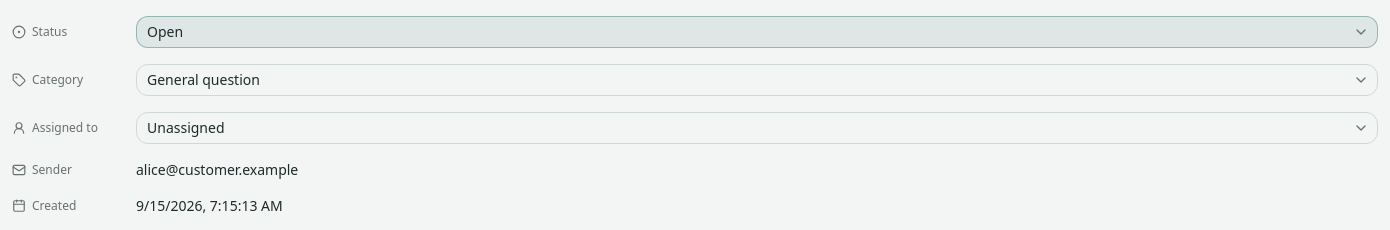
Test case: UpdateTicket — category › lists all three categories as options
This screenshot has width=1390, height=230.
Click the dropdown named "Category" at (203, 80), box 136,64 -> 1378,96
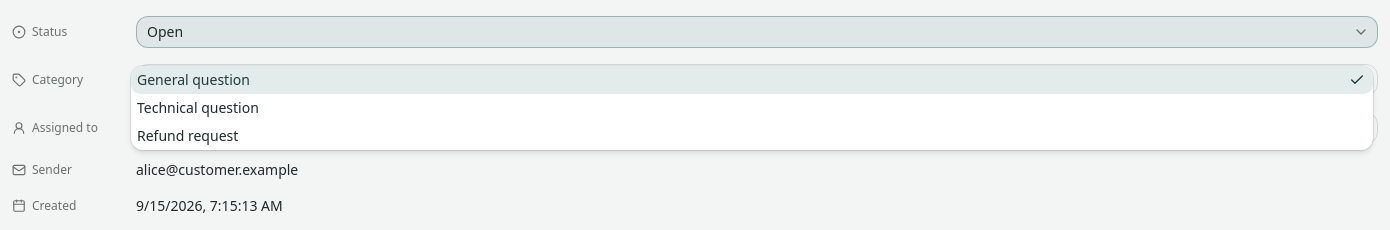
Result: the options read "General question", "Technical question", "Refund request", in this order at 131,66 -> 1373,94; 137,98 -> 259,117; 137,126 -> 238,145
